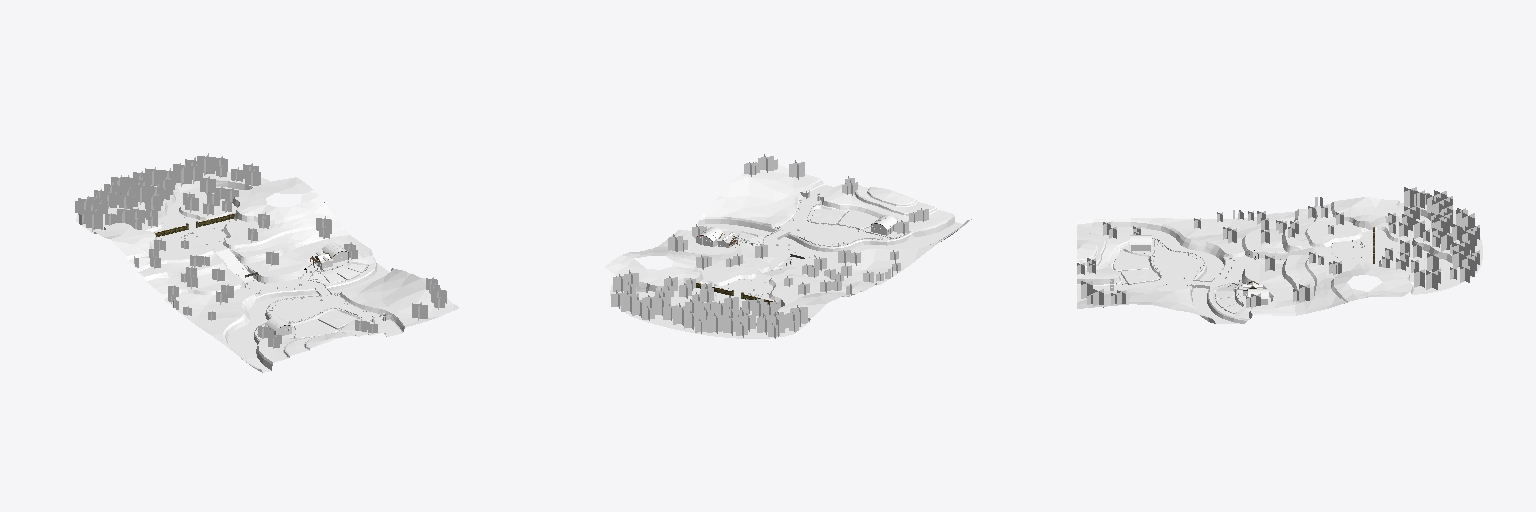
3 views of the same model, side by side, from view 1: azimuth 30°, elevation 25°; view 2: azimuth 150°, elevation 25°; view 3: azimuth 270°, elevation 25° (orthographic).
Visible parts, largest first — view 1: Object.203, Object.183, Object.197, Object.193; view 2: Object.203, Object.183, Object.197, Object.193; view 3: Object.203, Object.183, Object.197, Object.193.
Boxes of the visible parts, box(x1,y1,x2,y2) form: Object.203: box(76, 171, 458, 372); Object.183: box(75, 153, 446, 348); Object.197: box(227, 263, 389, 372); Object.193: box(294, 264, 366, 337); Object.203: box(605, 164, 971, 338); Object.183: box(611, 154, 928, 338); Object.197: box(691, 222, 962, 255); Object.193: box(722, 209, 878, 239); Object.203: box(1077, 197, 1482, 323); Object.183: box(1077, 187, 1479, 308); Object.197: box(1111, 227, 1239, 323); Object.193: box(1113, 251, 1241, 313).
Bounding box in the file's own units: 151 × 27.81 × 260.
23 materials, 8 textured.